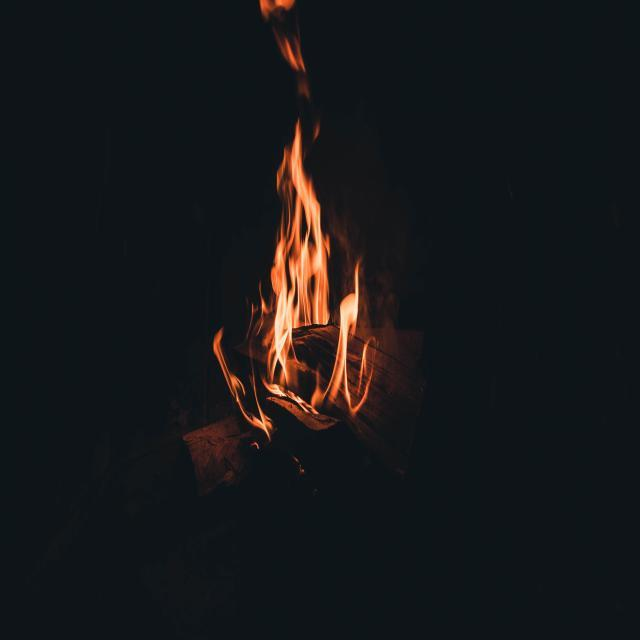Fire: (215, 114, 378, 438), (280, 38, 308, 75), (258, 0, 294, 16)
